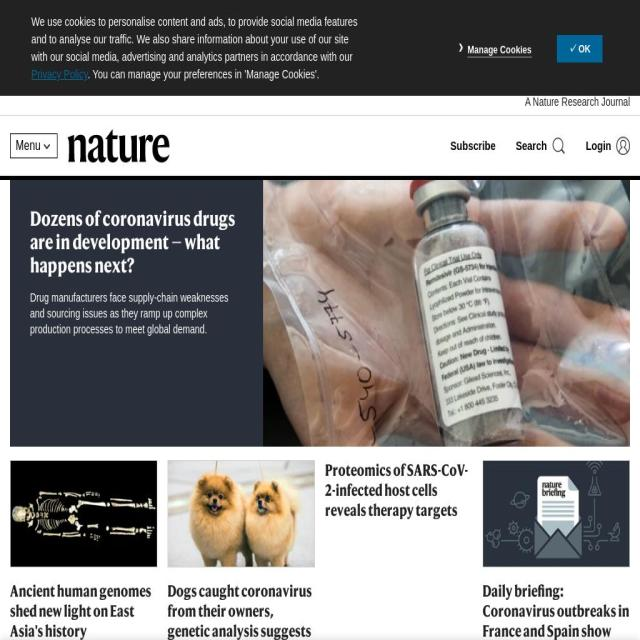button: (68, 129, 170, 163), (10, 132, 58, 158), (467, 42, 532, 58), (516, 136, 566, 155), (586, 136, 630, 155), (450, 138, 496, 154), (568, 42, 591, 55)
heading: (0, 0, 640, 640), (30, 206, 235, 276), (482, 581, 629, 640), (167, 581, 311, 640), (325, 460, 468, 519), (10, 581, 151, 640)
iframe: (92, 7, 548, 82)
image: (262, 179, 630, 447), (10, 459, 156, 567), (168, 459, 314, 567), (482, 459, 628, 567), (68, 129, 170, 163), (552, 136, 566, 155), (616, 136, 630, 155), (42, 139, 52, 153)
link: (32, 67, 88, 81)
text: (31, 15, 358, 63), (30, 289, 243, 338), (88, 67, 320, 81), (524, 92, 630, 112), (516, 138, 548, 152), (16, 137, 41, 154), (586, 138, 612, 152)
